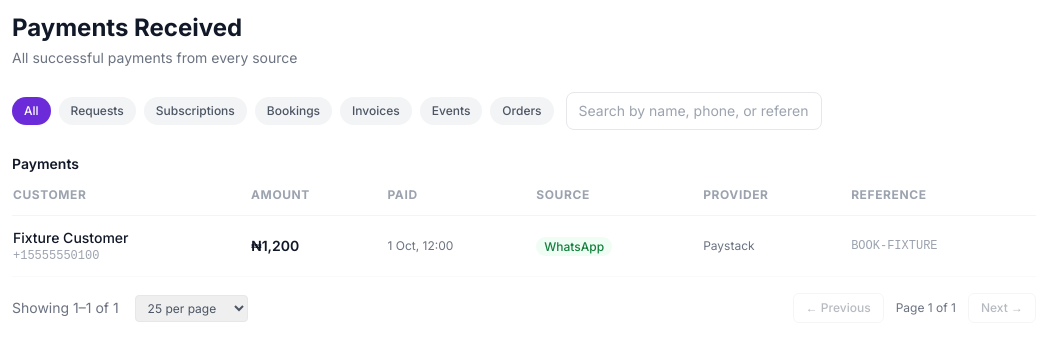
Test case: W22 Payments Received mounted page › ignores a stale success after a newer filter result
Expected: the text "Fixture Customer" is shown, [13,229,128,246]
Click the button "Requests" at (97, 111), box [59,97,136,125]
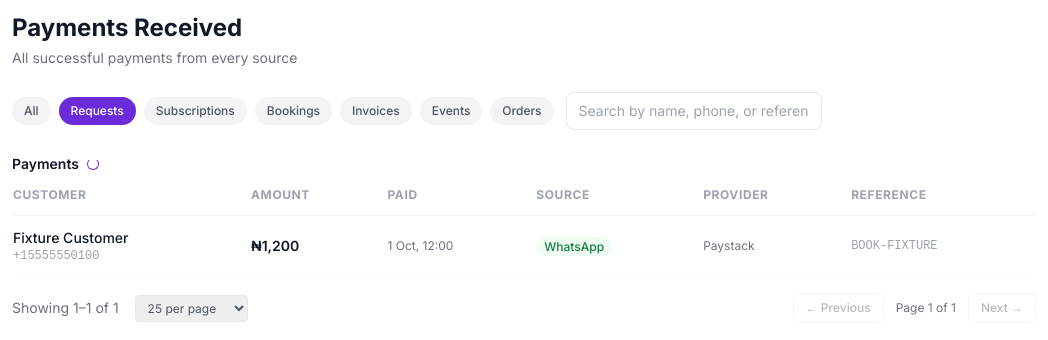
Click the button "Orders" at (522, 111), box [490,97,554,125]
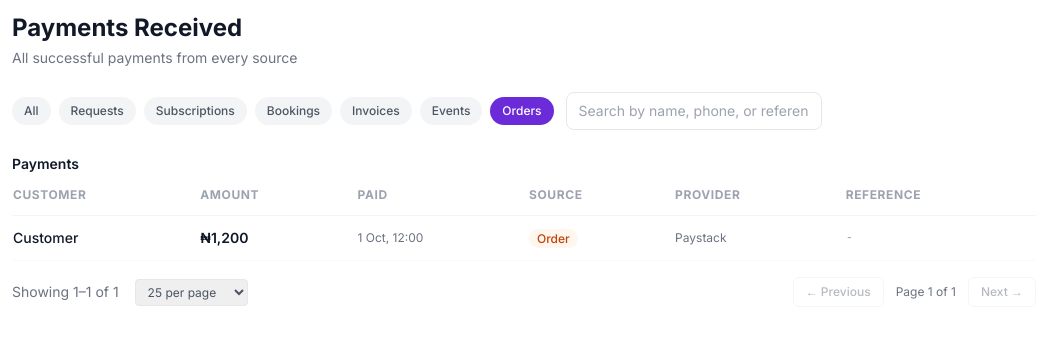
Expected: the button "Fixture Customer" is gone
Expected: the button "Customer ₦1,200 1 Oct, 12:00 Order paystack -" is shown, [12,216,1036,260]
Expected: the message is gone
